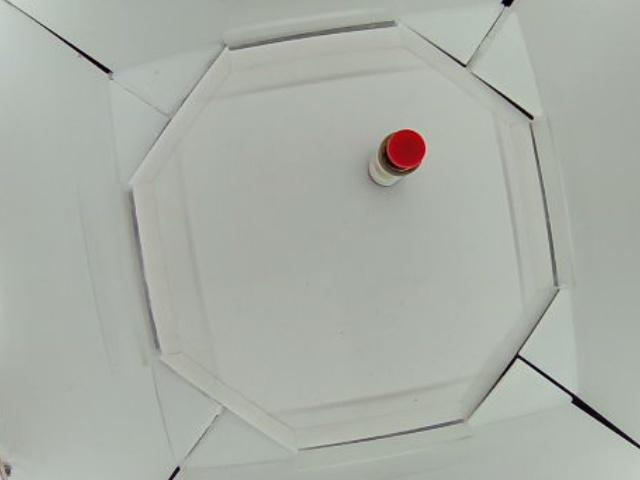Medicine: (365, 129, 427, 188)
